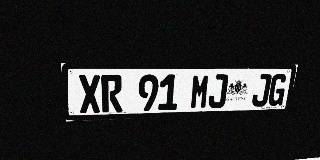1: (158, 74, 179, 110)
9: (138, 74, 159, 111)
G: (267, 74, 288, 106)
J: (208, 74, 229, 108), (251, 74, 272, 107)
M: (190, 74, 210, 109)
R: (101, 75, 122, 112)
X: (78, 75, 101, 113)
